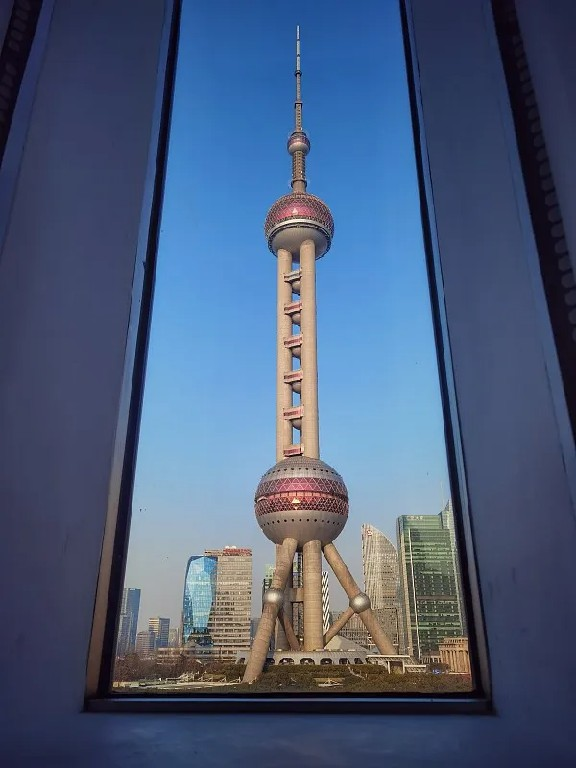Oriental: (243, 26, 404, 682)
